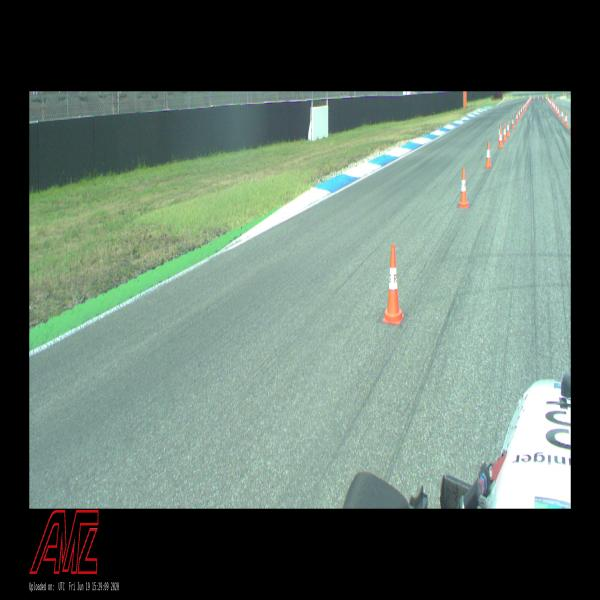orange_cone: (383, 245, 404, 325), (458, 168, 469, 208), (485, 142, 492, 168), (498, 129, 503, 149), (502, 123, 507, 143), (506, 121, 510, 136), (564, 112, 568, 126), (511, 116, 515, 128), (561, 109, 564, 121), (557, 107, 560, 117), (518, 109, 521, 118), (516, 112, 518, 122), (555, 104, 557, 114), (569, 125, 571, 135), (522, 104, 524, 113), (520, 107, 522, 115), (524, 103, 526, 110), (533, 94, 535, 100), (542, 95, 544, 100), (499, 123, 501, 128), (554, 103, 555, 111), (538, 95, 539, 100)
